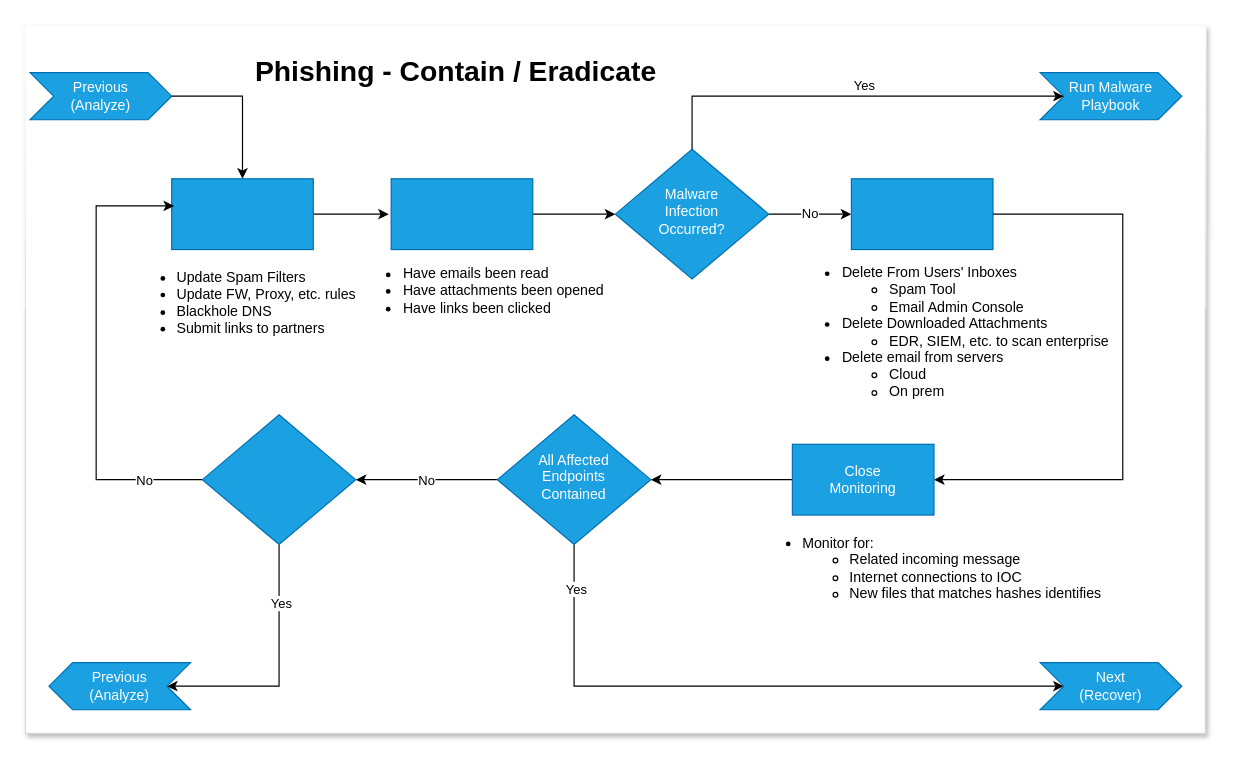
The diagram is 1233 pixels wide and 762 high, and some of its shapes have lost their labels. Here are the shapes that lost their labels. From the top down, the centre of each, then its label:
pixel 242 214: Block C2, Email Traffic
pixel 461 214: Action Taken by User
pixel 921 214: Delete Emails
pixel 278 479: New IOC Discovered
